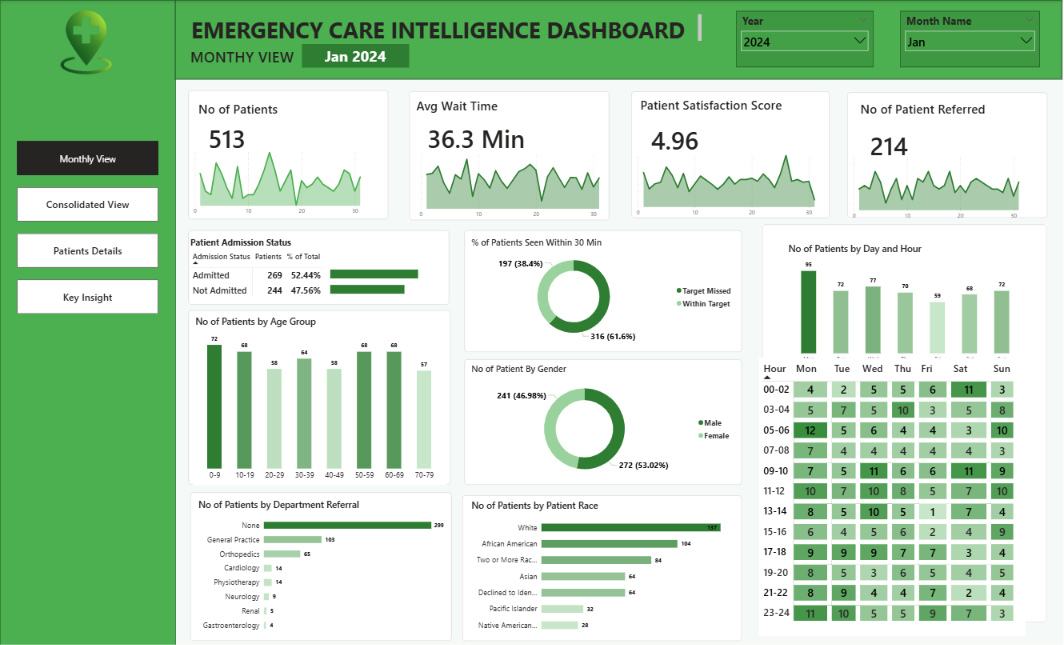

What the dashboard file says about the page in this screenshot:
{"tool":"powerbi","page":{"name":"Monthly View","canvas":[2300,1400],"ordinal":0},"visuals":[{"type":"shape","box":[407.3,195.1,434.1,280.5],"z":0,"group":"g3"},{"type":"shape","box":[1650,485.4,616.7,862.5],"z":0,"group":"g10"},{"type":"shape","box":[1004.2,497.9,602.1,264.6],"z":0,"group":"g7"},{"type":"shape","box":[407.5,498.1,566,162.3],"z":0,"group":"g2"},{"type":"shape","box":[407.1,671.4,568.6,378.6],"z":0,"group":"g6"},{"type":"shape","box":[1004.2,777.1,602.1,272.9],"z":0,"group":"g8"},{"type":"group","id":"g1","title":"Group 1","box":[411.4,1065.7,567.1,322.9],"z":0},{"type":"shape","box":[411.4,1065.7,567.1,322.9],"z":0,"group":"g1"},{"type":"shape","box":[1000,1070.8,606.2,316.7],"z":0,"group":"g9"},{"type":"group","id":"g2","title":"Group 1","box":[407.5,498.1,566,162.3],"z":1000},{"type":"columnChart","title":"No of Patients by Day and Hour","fields":{"Category":["Date Table.Day Name"],"Y":["Hospital ER_Data.No of Patients"]},"box":[1701.2,524.2,518.5,271.1],"z":1500,"group":"g10"},{"type":"shape","box":[1834.1,200,434.1,273.2],"z":2000},{"type":"shape","box":[885.4,197.6,434.1,280.5],"z":3000},{"type":"shape","box":[0,0,380.5,1400],"z":4000},{"type":"shape","box":[379.3,0,1920.6,171.8],"z":5000},{"type":"textbox","box":[408.3,25,1114.6,70.8],"z":6000},{"type":"card","fields":{"Values":["Hospital ER_Data.No of Patients"]},"box":[424.4,268.3,134.1,58.5],"z":6000,"group":"g3"},{"type":"textbox","box":[407.3,95.1,246.3,68.3],"z":7000},{"type":"slicer","fields":{"Values":["Date Table.Year"]},"box":[1592.7,24.4,297.6,122],"z":8000},{"type":"textbox","box":[424.4,212.2,200,61],"z":8000,"group":"g3"},{"type":"slicer","fields":{"Values":["Date Table.Month Name"]},"box":[1948.8,24.4,302.4,122],"z":9000},{"type":"shape","box":[1365.9,197.6,430.3,275.7],"z":9000,"group":"g4"},{"type":"areaChart","fields":{"Category":["Date Table.Date.Variation.Date Hierarchy.Day"],"Y":["Hospital ER_Data.No of Patients"]},"box":[407.3,317.1,434.1,158.5],"z":9000,"group":"g3"},{"type":"card","fields":{"Values":["Min(Date Table.Month & Year)"]},"box":[653.7,95.1,231.7,51.2],"z":10000},{"type":"card","fields":{"Values":["Hospital ER_Data.Satisfaction Score"]},"box":[1382.1,274.3,159.6,57.5],"z":10000,"group":"g4"},{"type":"textbox","box":[1382.1,204.8,449.7,59.9],"z":11000,"group":"g4"},{"type":"card","fields":{"Values":["Hospital ER_Data.Avg Wait Time"]},"box":[902.4,268.3,256.1,58.5],"z":11000},{"type":"group","id":"g3","title":"Group 1","box":[407.3,195.1,434.1,280.5],"z":12000},{"type":"areaChart","fields":{"Category":["Date Table.Date.Variation.Date Hierarchy.Day"],"Y":["Hospital ER_Data.Satisfaction Score"]},"box":[1365.9,322.3,461.7,155.8],"z":12000,"group":"g4"},{"type":"group","id":"g4","title":"Group 3","box":[1365.9,197.6,465.9,280.5],"z":12001,"group":"g5"},{"type":"card","fields":{"Values":["Hospital ER_Data.No of Patient Referred"]},"box":[1856.1,282.9,134.1,58.5],"z":13000},{"type":"areaChart","fields":{"Category":["Date Table.Date.Variation.Date Hierarchy.Day"],"Y":["Avg(Hospital ER_Data.Patient Waittime)"]},"box":[895.1,322,465.9,158.5],"z":14000},{"type":"group","id":"g5","title":"Group 2","box":[1365.9,197.6,461,280.5],"z":15000},{"type":"areaChart","fields":{"Category":["Date Table.Date.Variation.Date Hierarchy.Day"],"Y":["Hospital ER_Data.No of Patient Referred"]},"box":[1833.3,327.1,433.3,158.3],"z":16000},{"type":"textbox","box":[895.1,204.9,209.8,78],"z":17000},{"type":"textbox","box":[1856.1,212.2,297.6,53.7],"z":18000},{"type":"pivotTable","title":"Patient Admission Status","fields":{"Rows":["Hospital ER_Data.Admission Status"],"Values":["Hospital ER_Data.No of Patients1","Hospital ER_Data.No of Patients"]},"box":[407.5,511.3,318.9,149.1],"z":19000},{"type":"barChart","fields":{"Category":["Hospital ER_Data.Admission Status"],"Y":["Hospital ER_Data.No of Patient Referred"]},"box":[710,554,256,106],"z":20000},{"type":"group","id":"g6","title":"Group 1","box":[407.1,671.4,568.6,378.6],"z":21000},{"type":"clusteredColumnChart","fields":{"Category":["Hospital ER_Data.Age Group"],"Y":["Hospital ER_Data.No of Patients"]},"box":[417.1,681.4,548.6,368.6],"z":22000},{"type":"clusteredBarChart","fields":{"Category":["Hospital ER_Data.Department Referral"],"Y":["Hospital ER_Data.No of Patients"]},"box":[424.3,1077.1,541.4,301.4],"z":23000},{"type":"group","id":"g7","title":"Group 1","box":[1004.2,497.9,602.1,264.6],"z":24000},{"type":"donutChart","title":"% of Patients Seen Within 30 Min","fields":{"Category":["Hospital ER_Data.Waittime Status"],"Y":["Hospital ER_Data.No of Patients"]},"box":[1014.6,510.4,581.2,237.5],"z":25000},{"type":"group","id":"g8","title":"Group 1","box":[1004.2,777.1,602.1,272.9],"z":26000},{"type":"donutChart","title":"No of Patient By Gender","fields":{"Category":["Hospital ER_Data.Patient Gender"],"Y":["Hospital ER_Data.No of Patients"]},"box":[1014.6,785.4,577.1,260.4],"z":27000},{"type":"group","id":"g9","title":"Group 1","box":[1000,1070.8,606.2,316.7],"z":28000},{"type":"clusteredBarChart","fields":{"Category":["Hospital ER_Data.Patient Race"],"Y":["Hospital ER_Data.No of Patients"]},"box":[1014.6,1079.2,577.1,302.1],"z":29000},{"type":"group","id":"g10","title":"Group 1","box":[1650,485.4,616.7,862.5],"z":30000},{"type":"pivotTable","fields":{"Rows":["Hospital ER_Data.Waittime Interval"],"Columns":["Date Table.Day Name"],"Values":["Hospital ER_Data.No of Patients"]},"box":[1643.8,775,577.1,602.1],"z":31000},{"type":"image","box":[31,9.5,312.5,171.8],"z":31501},{"type":"pageNavigator","box":[37.5,304.2,306.2,377.1],"z":32002}]}

Visuals, with their boxes in screenshot pixels (x1, y1, x2, y2), scaled from the page's 2300x1400 canvas onto the 1064x645 screenshot:
shape: box=[188, 90, 389, 219]
shape: box=[763, 224, 1049, 621]
shape: box=[465, 229, 743, 351]
shape: box=[189, 229, 450, 304]
shape: box=[188, 309, 451, 484]
shape: box=[465, 358, 743, 484]
"Group 1" group: box=[190, 491, 453, 640]
shape: box=[190, 491, 453, 640]
shape: box=[463, 493, 743, 639]
"Group 1" group: box=[189, 229, 450, 304]
"No of Patients by Day and Hour" columnChart: box=[787, 242, 1027, 366]
shape: box=[848, 92, 1049, 218]
shape: box=[410, 91, 610, 220]
shape: box=[0, 0, 176, 644]
shape: box=[175, 0, 1063, 79]
textbox: box=[189, 12, 705, 44]
card - Hospital ER_Data.No of Patients: box=[196, 124, 258, 151]
textbox: box=[188, 44, 302, 75]
slicer - Date Table.Year: box=[737, 11, 874, 67]
textbox: box=[196, 98, 289, 126]
slicer - Date Table.Month Name: box=[902, 11, 1041, 67]
shape: box=[632, 91, 831, 218]
areaChart - Date Table.Date.Variation.Date Hierarchy.Day x Hospital ER_Data.No of Patients: box=[188, 146, 389, 219]
card - Min(Date Table.Month & Year): box=[302, 44, 410, 67]
card - Hospital ER_Data.Satisfaction Score: box=[639, 126, 713, 153]
textbox: box=[639, 94, 847, 122]
card - Hospital ER_Data.Avg Wait Time: box=[417, 124, 536, 151]
"Group 1" group: box=[188, 90, 389, 219]
areaChart - Date Table.Date.Variation.Date Hierarchy.Day x Hospital ER_Data.Satisfaction Score: box=[632, 148, 845, 220]
"Group 3" group: box=[632, 91, 847, 220]
card - Hospital ER_Data.No of Patient Referred: box=[859, 130, 921, 157]
areaChart - Date Table.Date.Variation.Date Hierarchy.Day x Avg(Hospital ER_Data.Patient Waittime): box=[414, 148, 630, 221]
"Group 2" group: box=[632, 91, 845, 220]
areaChart - Date Table.Date.Variation.Date Hierarchy.Day x Hospital ER_Data.No of Patient Referred: box=[848, 151, 1049, 224]
textbox: box=[414, 94, 511, 130]
textbox: box=[859, 98, 996, 123]
"Patient Admission Status" pivotTable: box=[189, 236, 336, 304]
barChart - Hospital ER_Data.Admission Status x Hospital ER_Data.No of Patient Referred: box=[328, 255, 447, 304]
"Group 1" group: box=[188, 309, 451, 484]
clusteredColumnChart - Hospital ER_Data.Age Group x Hospital ER_Data.No of Patients: box=[193, 314, 447, 484]
clusteredBarChart - Hospital ER_Data.Department Referral x Hospital ER_Data.No of Patients: box=[196, 496, 447, 635]
"Group 1" group: box=[465, 229, 743, 351]
"% of Patients Seen Within 30 Min" donutChart: box=[469, 235, 738, 345]
"Group 1" group: box=[465, 358, 743, 484]
"No of Patient By Gender" donutChart: box=[469, 362, 736, 482]
"Group 1" group: box=[463, 493, 743, 639]
clusteredBarChart - Hospital ER_Data.Patient Race x Hospital ER_Data.No of Patients: box=[469, 497, 736, 636]
"Group 1" group: box=[763, 224, 1049, 621]
pivotTable - Hospital ER_Data.Waittime Interval x Date Table.Day Name: box=[760, 357, 1027, 634]
image: box=[14, 4, 159, 84]
pageNavigator: box=[17, 140, 159, 314]
